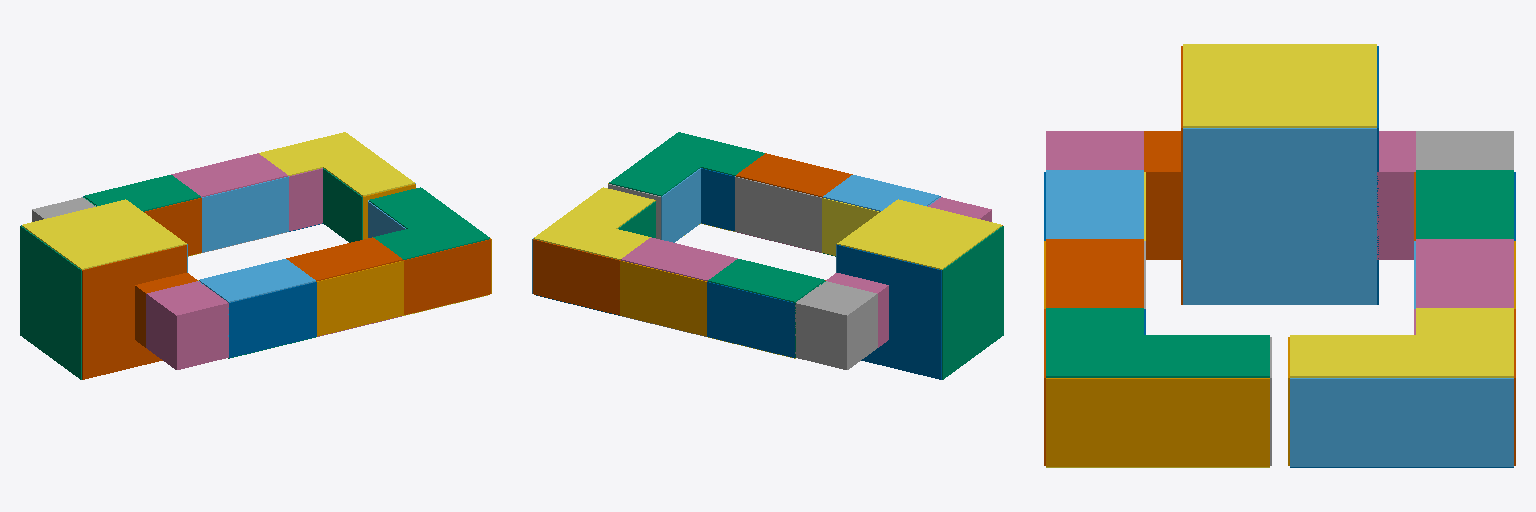
--- Render facts (derived) ---
Views: 3 orthographic renders of the robot side by side, from view 1: azimuth 30°, elevation 25°; view 2: azimuth 150°, elevation 25°; view 3: azimuth 270°, elevation 25°.
Model robot with 74 links and 73 joints (4 continuous, 69 fixed), rooted at body, posed every joint at zero.
Links seen in each view (by area): view 1: body_sensor_0_right, body_sensor_0_stop, body_sensor_0_top, joint_4, right_arm_sensor_0_right, left_arm_sensor_1_right, right_arm_sensor_1_right, right_arm_sensor_2_right, right_arm_sensor_0_top, left_arm_sensor_1_top, right_arm_sensor_1_top, right_arm_sensor_2_top (+10 smaller); view 2: body_sensor_0_left, body_sensor_0_stop, body_sensor_0_top, joint_2, left_arm_sensor_0_left, right_arm_sensor_1_left, left_arm_sensor_1_left, left_arm_sensor_2_left, left_arm_sensor_0_top, left_arm_sensor_1_top, left_arm_sensor_2_top, right_arm_sensor_1_top (+10 smaller); view 3: body_sensor_0_start, body_sensor_0_top, left_hand_sensor_0_top, right_hand_sensor_0_top, left_arm_sensor_0_start, right_arm_sensor_0_start, left_arm_sensor_2_top, right_arm_sensor_2_top, left_arm_sensor_0_top, left_arm_sensor_1_top, right_arm_sensor_0_top, right_arm_sensor_1_top (+6 smaller).
Link boxes in pixels (box(x1,y1,x2,y2)): body_sensor_0_right: box(82, 245, 186, 379); body_sensor_0_stop: box(20, 226, 81, 379); body_sensor_0_top: box(22, 199, 186, 269); joint_4: box(146, 281, 228, 369); right_arm_sensor_0_right: box(229, 282, 316, 357); left_arm_sensor_1_right: box(202, 176, 288, 252); right_arm_sensor_1_right: box(317, 261, 403, 336); right_arm_sensor_2_right: box(403, 239, 490, 314); right_arm_sensor_0_top: box(199, 259, 315, 302); left_arm_sensor_1_top: box(171, 153, 287, 197); right_arm_sensor_1_top: box(286, 237, 402, 281); right_arm_sensor_2_top: box(373, 216, 489, 259); body_sensor_0_left: box(837, 245, 941, 379); body_sensor_0_stop: box(942, 226, 1003, 379); body_sensor_0_top: box(837, 199, 1001, 269); joint_2: box(795, 281, 877, 369); left_arm_sensor_0_left: box(707, 282, 794, 357); right_arm_sensor_1_left: box(735, 176, 821, 252); left_arm_sensor_1_left: box(620, 261, 706, 336); left_arm_sensor_2_left: box(533, 239, 620, 314); left_arm_sensor_0_top: box(708, 259, 824, 302); left_arm_sensor_1_top: box(621, 237, 737, 281); left_arm_sensor_2_top: box(534, 216, 650, 259); right_arm_sensor_1_top: box(736, 153, 852, 197); body_sensor_0_start: box(1183, 128, 1376, 304); body_sensor_0_top: box(1183, 44, 1376, 127); left_hand_sensor_0_top: box(1290, 378, 1415, 466); right_hand_sensor_0_top: box(1144, 378, 1269, 466); left_arm_sensor_0_start: box(1416, 378, 1513, 466); right_arm_sensor_0_start: box(1046, 378, 1143, 466); left_arm_sensor_2_top: box(1416, 308, 1513, 377); right_arm_sensor_2_top: box(1046, 308, 1143, 377); left_arm_sensor_0_top: box(1416, 170, 1513, 238); left_arm_sensor_1_top: box(1416, 239, 1513, 307); right_arm_sensor_0_top: box(1046, 170, 1143, 238); right_arm_sensor_1_top: box(1046, 239, 1143, 307).
Size in the robot's own frame: 3.52 by 2.42 by 1.01 metres.
Geometry: primitives only (box / cylinder / sphere), no mesh files.

robot.urdf — robot:
<?xml version="1.0"?>
    <robot name="robot">


    <!-- body -->
    <link name="body">
        <inertial>
            <origin xyz="0 0 0" rpy="0 0 0"/>
            <mass value="100"/>
            <inertia ixx=".1" ixy=".1" ixz=".1" iyy=".1" iyz=".1" izz=".1"/>
        </inertial>
        <visual>
            <origin xyz="0 0 0" rpy="0 0 0"/>
            <geometry>
                <box size="1 1 1"/>
            </geometry>
        </visual>
        <collision>
            <origin xyz="0 0 0" rpy="0 0 0"/>
            <geometry>
                <box size="1 1 1"/>
            </geometry>
        </collision>
    </link>


    <!-- body_sensor_0_start -->
    <link name="body_sensor_0_start">
        <inertial>
            <origin xyz="0 0 0" rpy="0 0 0"/>
            <mass value="0"/>
            <inertia ixx=".1" ixy=".1" ixz=".1" iyy=".1" iyz=".1" izz=".1"/>
        </inertial>
        <visual>
            <origin xyz="0 0 0" rpy="0 0 0"/>
            <geometry>
                <box size="0.02 1 1"/>
            </geometry>
        </visual>
        <collision>
            <origin xyz="0 0 0" rpy="0 0 0"/>
            <geometry>
                <box size="0.02 1 1"/>
            </geometry>
        </collision>
    </link>
    <!-- Joint: body, body_sensor_0_start -->
    <joint name="body_body_sensor_0_start_joint" type="fixed">
        <parent link="body"/>
        <child link="body_sensor_0_start"/>
        <origin xyz="0.5 0 0"
                rpy="0 0 0"/>
        <axis xyz="1 0 0"/>
        
    </joint>


    <!-- body_sensor_0_stop -->
    <link name="body_sensor_0_stop">
        <inertial>
            <origin xyz="0 0 0" rpy="0 0 0"/>
            <mass value="0"/>
            <inertia ixx=".1" ixy=".1" ixz=".1" iyy=".1" iyz=".1" izz=".1"/>
        </inertial>
        <visual>
            <origin xyz="0 0 0" rpy="0 0 0"/>
            <geometry>
                <box size="0.02 1 1"/>
            </geometry>
        </visual>
        <collision>
            <origin xyz="0 0 0" rpy="0 0 0"/>
            <geometry>
                <box size="0.02 1 1"/>
            </geometry>
        </collision>
    </link>
    <!-- Joint: body, body_sensor_0_stop -->
    <joint name="body_body_sensor_0_stop_joint" type="fixed">
        <parent link="body"/>
        <child link="body_sensor_0_stop"/>
        <origin xyz="-0.5 0 0"
                rpy="0 0 0"/>
        <axis xyz="1 0 0"/>
        
    </joint>


    <!-- body_sensor_0_top -->
    <link name="body_sensor_0_top">
        <inertial>
            <origin xyz="0 0 0" rpy="0 0 0"/>
            <mass value="0"/>
            <inertia ixx=".1" ixy=".1" ixz=".1" iyy=".1" iyz=".1" izz=".1"/>
        </inertial>
        <visual>
            <origin xyz="0 0 0" rpy="0 0 0"/>
            <geometry>
                <box size="1.0 1 0.02"/>
            </geometry>
        </visual>
        <collision>
            <origin xyz="0 0 0" rpy="0 0 0"/>
            <geometry>
                <box size="1.0 1 0.02"/>
            </geometry>
        </collision>
    </link>
    <!-- Joint: body, body_sensor_0_top -->
    <joint name="body_body_sensor_0_top_joint" type="fixed">
        <parent link="body"/>
        <child link="body_sensor_0_top"/>
        <origin xyz="0 0 0.5"
                rpy="0 0 0"/>
        <axis xyz="1 0 0"/>
        
    </joint>


    <!-- body_sensor_0_left -->
    <link name="body_sensor_0_left">
        <inertial>
            <origin xyz="0 0 0" rpy="0 0 0"/>
            <mass value="0"/>
            <inertia ixx=".1" ixy=".1" ixz=".1" iyy=".1" iyz=".1" izz=".1"/>
        </inertial>
        <visual>
            <origin xyz="0 0 0" rpy="0 0 0"/>
            <geometry>
                <box size="1.0 0.02 1"/>
            </geometry>
        </visual>
        <collision>
            <origin xyz="0 0 0" rpy="0 0 0"/>
            <geometry>
                <box size="1.0 0.02 1"/>
            </geometry>
        </collision>
    </link>
    <!-- Joint: body, body_sensor_0_left -->
    <joint name="body_body_sensor_0_left_joint" type="fixed">
        <parent link="body"/>
        <child link="body_sensor_0_left"/>
        <origin xyz="0 0.5 0"
                rpy="0 0 0"/>
        <axis xyz="1 0 0"/>
        
    </joint>


    <!-- body_sensor_0_right -->
    <link name="body_sensor_0_right">
        <inertial>
            <origin xyz="0 0 0" rpy="0 0 0"/>
            <mass value="0"/>
            <inertia ixx=".1" ixy=".1" ixz=".1" iyy=".1" iyz=".1" izz=".1"/>
        </inertial>
        <visual>
            <origin xyz="0 0 0" rpy="0 0 0"/>
            <geometry>
                <box size="1.0 0.02 1"/>
            </geometry>
        </visual>
        <collision>
            <origin xyz="0 0 0" rpy="0 0 0"/>
            <geometry>
                <box size="1.0 0.02 1"/>
            </geometry>
        </collision>
    </link>
    <!-- Joint: body, body_sensor_0_right -->
    <joint name="body_body_sensor_0_right_joint" type="fixed">
        <parent link="body"/>
        <child link="body_sensor_0_right"/>
        <origin xyz="0 -0.5 0"
                rpy="0 0 0"/>
        <axis xyz="1 0 0"/>
        
    </joint>


    <!-- joint_1 -->
    <link name="joint_1">
        <inertial>
            <origin xyz="0 0 0" rpy="0 0 0"/>
            <mass value="0.1"/>
            <inertia ixx=".1" ixy=".1" ixz=".1" iyy=".1" iyz=".1" izz=".1"/>
        </inertial>
        <visual>
            <origin xyz="0 0 0" rpy="0 0 0"/>
            <geometry>
                <box size="0.5 0.2 0.5"/>
            </geometry>
        </visual>
        <collision>
            <origin xyz="0 0 0" rpy="0 0 0"/>
            <geometry>
                <box size="0.5 0.2 0.5"/>
            </geometry>
        </collision>
    </link>
    <!-- Joint: body, joint_1 -->
    <joint name="body_joint_1_joint" type="continuous">
        <parent link="body"/>
        <child link="joint_1"/>
        <origin xyz="0.25 0.6 0"
                rpy="0 0 0"/>
        <axis xyz="0 -1 0"/>
        <limit lower="0" upper="0" effort="0" velocity="0"/>
    </joint>


    <!-- joint_2 -->
    <link name="joint_2">
        <inertial>
            <origin xyz="0 0 0" rpy="0 0 0"/>
            <mass value="0.1"/>
            <inertia ixx=".1" ixy=".1" ixz=".1" iyy=".1" iyz=".1" izz=".1"/>
        </inertial>
        <visual>
            <origin xyz="0 0 0" rpy="0 0 0"/>
            <geometry>
                <box size="0.5 0.5 0.5"/>
            </geometry>
        </visual>
        <collision>
            <origin xyz="0 0 0" rpy="0 0 0"/>
            <geometry>
                <box size="0.5 0.5 0.5"/>
            </geometry>
        </collision>
    </link>
    <!-- Joint: joint_1, joint_2 -->
    <joint name="joint_1_joint_2_joint" type="continuous">
        <parent link="joint_1"/>
        <child link="joint_2"/>
        <origin xyz="0 0.35 0"
                rpy="0 0 0"/>
        <axis xyz="0 0 1"/>
        <limit lower="0" upper="0" effort="0" velocity="0"/>
    </joint>


    <!-- left_arm -->
    <link name="left_arm">
        <inertial>
            <origin xyz="0 0 0" rpy="0 0 0"/>
            <mass value="0.1"/>
            <inertia ixx=".1" ixy=".1" ixz=".1" iyy=".1" iyz=".1" izz=".1"/>
        </inertial>
        <visual>
            <origin xyz="0 0 0" rpy="0 0 0"/>
            <geometry>
                <box size="2.5 0.5 0.5"/>
            </geometry>
        </visual>
        <collision>
            <origin xyz="0 0 0" rpy="0 0 0"/>
            <geometry>
                <box size="2.5 0.5 0.5"/>
            </geometry>
        </collision>
    </link>


    <!-- left_arm_sensor_0_start -->
    <link name="left_arm_sensor_0_start">
        <inertial>
            <origin xyz="0 0 0" rpy="0 0 0"/>
            <mass value="0"/>
            <inertia ixx=".1" ixy=".1" ixz=".1" iyy=".1" iyz=".1" izz=".1"/>
        </inertial>
        <visual>
            <origin xyz="0 0 0" rpy="0 0 0"/>
            <geometry>
                <box size="0.02 0.5 0.5"/>
            </geometry>
        </visual>
        <collision>
            <origin xyz="0 0 0" rpy="0 0 0"/>
            <geometry>
                <box size="0.02 0.5 0.5"/>
            </geometry>
        </collision>
    </link>
    <!-- Joint: left_arm, left_arm_sensor_0_start -->
    <joint name="left_arm_left_arm_sensor_0_start_joint" type="fixed">
        <parent link="left_arm"/>
        <child link="left_arm_sensor_0_start"/>
        <origin xyz="1.25 0 0"
                rpy="0 0 0"/>
        <axis xyz="1 0 0"/>
        
    </joint>


    <!-- left_arm_sensor_0_top -->
    <link name="left_arm_sensor_0_top">
        <inertial>
            <origin xyz="0 0 0" rpy="0 0 0"/>
            <mass value="0"/>
            <inertia ixx=".1" ixy=".1" ixz=".1" iyy=".1" iyz=".1" izz=".1"/>
        </inertial>
        <visual>
            <origin xyz="0 0 0" rpy="0 0 0"/>
            <geometry>
                <box size="0.8333333333333334 0.5 0.02"/>
            </geometry>
        </visual>
        <collision>
            <origin xyz="0 0 0" rpy="0 0 0"/>
            <geometry>
                <box size="0.8333333333333334 0.5 0.02"/>
            </geometry>
        </collision>
    </link>
    <!-- Joint: left_arm, left_arm_sensor_0_top -->
    <joint name="left_arm_left_arm_sensor_0_top_joint" type="fixed">
        <parent link="left_arm"/>
        <child link="left_arm_sensor_0_top"/>
        <origin xyz="-0.8333333333333333 0 0.25"
                rpy="0 0 0"/>
        <axis xyz="1 0 0"/>
        
    </joint>


    <!-- left_arm_sensor_0_bottom -->
    <link name="left_arm_sensor_0_bottom">
        <inertial>
            <origin xyz="0 0 0" rpy="0 0 0"/>
            <mass value="0"/>
            <inertia ixx=".1" ixy=".1" ixz=".1" iyy=".1" iyz=".1" izz=".1"/>
        </inertial>
        <visual>
            <origin xyz="0 0 0" rpy="0 0 0"/>
            <geometry>
                <box size="0.8333333333333334 0.5 0.02"/>
            </geometry>
        </visual>
        <collision>
            <origin xyz="0 0 0" rpy="0 0 0"/>
            <geometry>
                <box size="0.8333333333333334 0.5 0.02"/>
            </geometry>
        </collision>
    </link>
    <!-- Joint: left_arm, left_arm_sensor_0_bottom -->
    <joint name="left_arm_left_arm_sensor_0_bottom_joint" type="fixed">
        <parent link="left_arm"/>
        <child link="left_arm_sensor_0_bottom"/>
        <origin xyz="-0.8333333333333333 0 -0.25"
                rpy="0 0 0"/>
        <axis xyz="1 0 0"/>
        
    </joint>


    <!-- left_arm_sensor_0_left -->
    <link name="left_arm_sensor_0_left">
        <inertial>
            <origin xyz="0 0 0" rpy="0 0 0"/>
            <mass value="0"/>
            <inertia ixx=".1" ixy=".1" ixz=".1" iyy=".1" iyz=".1" izz=".1"/>
        </inertial>
        <visual>
            <origin xyz="0 0 0" rpy="0 0 0"/>
            <geometry>
                <box size="0.8333333333333334 0.02 0.5"/>
            </geometry>
        </visual>
        <collision>
            <origin xyz="0 0 0" rpy="0 0 0"/>
            <geometry>
                <box size="0.8333333333333334 0.02 0.5"/>
            </geometry>
        </collision>
    </link>
    <!-- Joint: left_arm, left_arm_sensor_0_left -->
    <joint name="left_arm_left_arm_sensor_0_left_joint" type="fixed">
        <parent link="left_arm"/>
        <child link="left_arm_sensor_0_left"/>
        <origin xyz="-0.8333333333333333 0.25 0"
                rpy="0 0 0"/>
        <axis xyz="1 0 0"/>
        
    </joint>


    <!-- left_arm_sensor_0_right -->
    <link name="left_arm_sensor_0_right">
        <inertial>
            <origin xyz="0 0 0" rpy="0 0 0"/>
            <mass value="0"/>
            <inertia ixx=".1" ixy=".1" ixz=".1" iyy=".1" iyz=".1" izz=".1"/>
        </inertial>
        <visual>
            <origin xyz="0 0 0" rpy="0 0 0"/>
            <geometry>
                <box size="0.8333333333333334 0.02 0.5"/>
            </geometry>
        </visual>
        <collision>
            <origin xyz="0 0 0" rpy="0 0 0"/>
            <geometry>
                <box size="0.8333333333333334 0.02 0.5"/>
            </geometry>
        </collision>
    </link>
    <!-- Joint: left_arm, left_arm_sensor_0_right -->
    <joint name="left_arm_left_arm_sensor_0_right_joint" type="fixed">
        <parent link="left_arm"/>
        <child link="left_arm_sensor_0_right"/>
        <origin xyz="-0.8333333333333333 -0.25 0"
                rpy="0 0 0"/>
        <axis xyz="1 0 0"/>
        
    </joint>


    <!-- left_arm_sensor_1_top -->
    <link name="left_arm_sensor_1_top">
        <inertial>
            <origin xyz="0 0 0" rpy="0 0 0"/>
            <mass value="0"/>
            <inertia ixx=".1" ixy=".1" ixz=".1" iyy=".1" iyz=".1" izz=".1"/>
        </inertial>
        <visual>
            <origin xyz="0 0 0" rpy="0 0 0"/>
            <geometry>
                <box size="0.8333333333333334 0.5 0.02"/>
            </geometry>
        </visual>
        <collision>
            <origin xyz="0 0 0" rpy="0 0 0"/>
            <geometry>
                <box size="0.8333333333333334 0.5 0.02"/>
            </geometry>
        </collision>
    </link>
    <!-- Joint: left_arm, left_arm_sensor_1_top -->
    <joint name="left_arm_left_arm_sensor_1_top_joint" type="fixed">
        <parent link="left_arm"/>
        <child link="left_arm_sensor_1_top"/>
        <origin xyz="1.1102230246251565e-16 0 0.25"
                rpy="0 0 0"/>
        <axis xyz="1 0 0"/>
        
    </joint>


    <!-- left_arm_sensor_1_bottom -->
    <link name="left_arm_sensor_1_bottom">
        <inertial>
            <origin xyz="0 0 0" rpy="0 0 0"/>
            <mass value="0"/>
            <inertia ixx=".1" ixy=".1" ixz=".1" iyy=".1" iyz=".1" izz=".1"/>
        </inertial>
        <visual>
            <origin xyz="0 0 0" rpy="0 0 0"/>
            <geometry>
                <box size="0.8333333333333334 0.5 0.02"/>
            </geometry>
        </visual>
        <collision>
            <origin xyz="0 0 0" rpy="0 0 0"/>
            <geometry>
                <box size="0.8333333333333334 0.5 0.02"/>
            </geometry>
        </collision>
    </link>
    <!-- Joint: left_arm, left_arm_sensor_1_bottom -->
    <joint name="left_arm_left_arm_sensor_1_bottom_joint" type="fixed">
        <parent link="left_arm"/>
        <child link="left_arm_sensor_1_bottom"/>
        <origin xyz="1.1102230246251565e-16 0 -0.25"
                rpy="0 0 0"/>
        <axis xyz="1 0 0"/>
        
    </joint>


    <!-- left_arm_sensor_1_left -->
    <link name="left_arm_sensor_1_left">
        <inertial>
            <origin xyz="0 0 0" rpy="0 0 0"/>
            <mass value="0"/>
            <inertia ixx=".1" ixy=".1" ixz=".1" iyy=".1" iyz=".1" izz=".1"/>
        </inertial>
        <visual>
            <origin xyz="0 0 0" rpy="0 0 0"/>
            <geometry>
                <box size="0.8333333333333334 0.02 0.5"/>
            </geometry>
        </visual>
        <collision>
            <origin xyz="0 0 0" rpy="0 0 0"/>
            <geometry>
                <box size="0.8333333333333334 0.02 0.5"/>
            </geometry>
        </collision>
    </link>
    <!-- Joint: left_arm, left_arm_sensor_1_left -->
    <joint name="left_arm_left_arm_sensor_1_left_joint" type="fixed">
        <parent link="left_arm"/>
        <child link="left_arm_sensor_1_left"/>
        <origin xyz="1.1102230246251565e-16 0.25 0"
                rpy="0 0 0"/>
        <axis xyz="1 0 0"/>
        
    </joint>


    <!-- left_arm_sensor_1_right -->
    <link name="left_arm_sensor_1_right">
        <inertial>
            <origin xyz="0 0 0" rpy="0 0 0"/>
            <mass value="0"/>
            <inertia ixx=".1" ixy=".1" ixz=".1" iyy=".1" iyz=".1" izz=".1"/>
        </inertial>
        <visual>
            <origin xyz="0 0 0" rpy="0 0 0"/>
            <geometry>
                <box size="0.8333333333333334 0.02 0.5"/>
            </geometry>
        </visual>
        <collision>
            <origin xyz="0 0 0" rpy="0 0 0"/>
            <geometry>
                <box size="0.8333333333333334 0.02 0.5"/>
            </geometry>
        </collision>
    </link>
    <!-- Joint: left_arm, left_arm_sensor_1_right -->
    <joint name="left_arm_left_arm_sensor_1_right_joint" type="fixed">
        <parent link="left_arm"/>
        <child link="left_arm_sensor_1_right"/>
        <origin xyz="1.1102230246251565e-16 -0.25 0"
                rpy="0 0 0"/>
        <axis xyz="1 0 0"/>
        
    </joint>


    <!-- left_arm_sensor_2_stop -->
    <link name="left_arm_sensor_2_stop">
        <inertial>
            <origin xyz="0 0 0" rpy="0 0 0"/>
            <mass value="0"/>
            <inertia ixx=".1" ixy=".1" ixz=".1" iyy=".1" iyz=".1" izz=".1"/>
        </inertial>
        <visual>
            <origin xyz="0 0 0" rpy="0 0 0"/>
            <geometry>
                <box size="0.02 0.5 0.5"/>
            </geometry>
        </visual>
        <collision>
            <origin xyz="0 0 0" rpy="0 0 0"/>
            <geometry>
                <box size="0.02 0.5 0.5"/>
            </geometry>
        </collision>
    </link>
    <!-- Joint: left_arm, left_arm_sensor_2_stop -->
    <joint name="left_arm_left_arm_sensor_2_stop_joint" type="fixed">
        <parent link="left_arm"/>
        <child link="left_arm_sensor_2_stop"/>
        <origin xyz="-1.25 0 0"
                rpy="0 0 0"/>
        <axis xyz="1 0 0"/>
        
    </joint>


    <!-- left_arm_sensor_2_top -->
    <link name="left_arm_sensor_2_top">
        <inertial>
            <origin xyz="0 0 0" rpy="0 0 0"/>
            <mass value="0"/>
            <inertia ixx=".1" ixy=".1" ixz=".1" iyy=".1" iyz=".1" izz=".1"/>
        </inertial>
        <visual>
            <origin xyz="0 0 0" rpy="0 0 0"/>
            <geometry>
                <box size="0.8333333333333334 0.5 0.02"/>
            </geometry>
        </visual>
        <collision>
            <origin xyz="0 0 0" rpy="0 0 0"/>
            <geometry>
                <box size="0.8333333333333334 0.5 0.02"/>
            </geometry>
        </collision>
    </link>
    <!-- Joint: left_arm, left_arm_sensor_2_top -->
    <joint name="left_arm_left_arm_sensor_2_top_joint" type="fixed">
        <parent link="left_arm"/>
        <child link="left_arm_sensor_2_top"/>
        <origin xyz="0.8333333333333335 0 0.25"
                rpy="0 0 0"/>
        <axis xyz="1 0 0"/>
        
    </joint>


    <!-- left_arm_sensor_2_bottom -->
    <link name="left_arm_sensor_2_bottom">
        <inertial>
            <origin xyz="0 0 0" rpy="0 0 0"/>
            <mass value="0"/>
            <inertia ixx=".1" ixy=".1" ixz=".1" iyy=".1" iyz=".1" izz=".1"/>
        </inertial>
        <visual>
            <origin xyz="0 0 0" rpy="0 0 0"/>
            <geometry>
                <box size="0.8333333333333334 0.5 0.02"/>
            </geometry>
        </visual>
        <collision>
            <origin xyz="0 0 0" rpy="0 0 0"/>
            <geometry>
                <box size="0.8333333333333334 0.5 0.02"/>
            </geometry>
        </collision>
    </link>
    <!-- Joint: left_arm, left_arm_sensor_2_bottom -->
    <joint name="left_arm_left_arm_sensor_2_bottom_joint" type="fixed">
        <parent link="left_arm"/>
        <child link="left_arm_sensor_2_bottom"/>
        <origin xyz="0.8333333333333335 0 -0.25"
                rpy="0 0 0"/>
        <axis xyz="1 0 0"/>
        
    </joint>


    <!-- left_arm_sensor_2_left -->
    <link name="left_arm_sensor_2_left">
        <inertial>
            <origin xyz="0 0 0" rpy="0 0 0"/>
            <mass value="0"/>
            <inertia ixx=".1" ixy=".1" ixz=".1" iyy=".1" iyz=".1" izz=".1"/>
        </inertial>
        <visual>
            <origin xyz="0 0 0" rpy="0 0 0"/>
            <geometry>
                <box size="0.8333333333333334 0.02 0.5"/>
            </geometry>
        </visual>
        <collision>
            <origin xyz="0 0 0" rpy="0 0 0"/>
            <geometry>
                <box size="0.8333333333333334 0.02 0.5"/>
            </geometry>
        </collision>
    </link>
    <!-- Joint: left_arm, left_arm_sensor_2_left -->
    <joint name="left_arm_left_arm_sensor_2_left_joint" type="fixed">
        <parent link="left_arm"/>
        <child link="left_arm_sensor_2_left"/>
        <origin xyz="0.8333333333333335 0.25 0"
                rpy="0 0 0"/>
        <axis xyz="1 0 0"/>
        
    </joint>


    <!-- left_arm_sensor_2_right -->
    <link name="left_arm_sensor_2_right">
        <inertial>
            <origin xyz="0 0 0" rpy="0 0 0"/>
            <mass value="0"/>
            <inertia ixx=".1" ixy=".1" ixz=".1" iyy=".1" iyz=".1" izz=".1"/>
        </inertial>
        <visual>
            <origin xyz="0 0 0" rpy="0 0 0"/>
            <geometry>
                <box size="0.8333333333333334 0.02 0.5"/>
            </geometry>
        </visual>
        <collision>
            <origin xyz="0 0 0" rpy="0 0 0"/>
            <geometry>
                <box size="0.8333333333333334 0.02 0.5"/>
            </geometry>
        </collision>
    </link>
    <!-- Joint: left_arm, left_arm_sensor_2_right -->
    <joint name="left_arm_left_arm_sensor_2_right_joint" type="fixed">
        <parent link="left_arm"/>
        <child link="left_arm_sensor_2_right"/>
        <origin xyz="0.8333333333333335 -0.25 0"
                rpy="0 0 0"/>
        <axis xyz="1 0 0"/>
        
    </joint>
    <!-- Joint: joint_2, left_arm -->
    <joint name="joint_2_left_arm_joint" type="fixed">
        <parent link="joint_2"/>
        <child link="left_arm"/>
        <origin xyz="1.5 0 0"
                rpy="0 0 0"/>
        <axis xyz="1 0 0"/>
        
    </joint>


    <!-- left_hand -->
    <link name="left_hand">
        <inertial>
            <origin xyz="0 0 0" rpy="0 0 0"/>
            <mass value="0.1"/>
            <inertia ixx=".1" ixy=".1" ixz=".1" iyy=".1" iyz=".1" izz=".1"/>
        </inertial>
        <visual>
            <origin xyz="0 0 0" rpy="0 0 0"/>
            <geometry>
                <box size="0.5 0.65 0.5"/>
            </geometry>
        </visual>
        <collision>
            <origin xyz="0 0 0" rpy="0 0 0"/>
            <geometry>
                <box size="0.5 0.65 0.5"/>
            </geometry>
        </collision>
    </link>


    <!-- left_hand_sensor_0_stop -->
    <link name="left_hand_sensor_0_stop">
        <inertial>
            <origin xyz="0 0 0" rpy="0 0 0"/>
            <mass value="0"/>
            <inertia ixx=".1" ixy=".1" ixz=".1" iyy=".1" iyz=".1" izz=".1"/>
        </inertial>
        <visual>
            <origin xyz="0 0 0" rpy="0 0 0"/>
            <geometry>
                <box size="0.5 0.02 0.5"/>
            </geometry>
        </visual>
        <collision>
            <origin xyz="0 0 0" rpy="0 0 0"/>
            <geometry>
                <box size="0.5 0.02 0.5"/>
            </geometry>
        </collision>
    </link>
    <!-- Joint: left_hand, left_hand_sensor_0_stop -->
    <joint name="left_hand_left_hand_sensor_0_stop_joint" type="fixed">
        <parent link="left_hand"/>
        <child link="left_hand_sensor_0_stop"/>
        <origin xyz="0 -0.325 0"
                rpy="0 0 0"/>
        <axis xyz="0 0 1"/>
        
    </joint>


    <!-- left_hand_sensor_0_top -->
    <link name="left_hand_sensor_0_top">
        <inertial>
            <origin xyz="0 0 0" rpy="0 0 0"/>
            <mass value="0"/>
            <inertia ixx=".1" ixy=".1" ixz=".1" iyy=".1" iyz=".1" izz=".1"/>
        </inertial>
        <visual>
            <origin xyz="0 0 0" rpy="0 0 0"/>
            <geometry>
                <box size="0.02 0.65 0.5"/>
            </geometry>
        </visual>
        <collision>
            <origin xyz="0 0 0" rpy="0 0 0"/>
            <geometry>
                <box size="0.02 0.65 0.5"/>
            </geometry>
        </collision>
    </link>
    <!-- Joint: left_hand, left_hand_sensor_0_top -->
    <joint name="left_hand_left_hand_sensor_0_top_joint" type="fixed">
        <parent link="left_hand"/>
        <child link="left_hand_sensor_0_top"/>
        <origin xyz="0.25 0 0"
                rpy="0 0 0"/>
        <axis xyz="0 0 1"/>
        
    </joint>


    <!-- left_hand_sensor_0_bottom -->
    <link name="left_hand_sensor_0_bottom">
        <inertial>
            <origin xyz="0 0 0" rpy="0 0 0"/>
            <mass value="0"/>
            <inertia ixx=".1" ixy=".1" ixz=".1" iyy=".1" iyz=".1" izz=".1"/>
        </inertial>
        <visual>
            <origin xyz="0 0 0" rpy="0 0 0"/>
            <geometry>
                <box size="0.02 0.65 0.5"/>
            </geometry>
        </visual>
        <collision>
            <origin xyz="0 0 0" rpy="0 0 0"/>
            <geometry>
                <box size="0.02 0.65 0.5"/>
            </geometry>
        </collision>
    </link>
    <!-- Joint: left_hand, left_hand_sensor_0_bottom -->
    <joint name="left_hand_left_hand_sensor_0_bottom_joint" type="fixed">
        <parent link="left_hand"/>
        <child link="left_hand_sensor_0_bottom"/>
        <origin xyz="-0.25 0 0"
                rpy="0 0 0"/>
        <axis xyz="0 0 1"/>
        
    </joint>


    <!-- left_hand_sensor_0_left -->
    <link name="left_hand_sensor_0_left">
        <inertial>
            <origin xyz="0 0 0" rpy="0 0 0"/>
            <mass value="0"/>
            <inertia ixx=".1" ixy=".1" ixz=".1" iyy=".1" iyz=".1" izz=".1"/>
        </inertial>
        <visual>
            <origin xyz="0 0 0" rpy="0 0 0"/>
            <geometry>
                <box size="0.5 0.65 0.02"/>
            </geometry>
        </visual>
        <collision>
            <origin xyz="0 0 0" rpy="0 0 0"/>
            <geometry>
                <box size="0.5 0.65 0.02"/>
            </geometry>
        </collision>
    </link>
    <!-- Joint: left_hand, left_hand_sensor_0_left -->
    <joint name="left_hand_left_hand_sensor_0_left_joint" type="fixed">
        <parent link="left_hand"/>
        <child link="left_hand_sensor_0_left"/>
        <origin xyz="0 0 0.25"
                rpy="0 0 0"/>
        <axis xyz="0 0 1"/>
        
    </joint>


    <!-- left_hand_sensor_0_right -->
    <link name="left_hand_sensor_0_right">
        <inertial>
            <origin xyz="0 0 0" rpy="0 0 0"/>
            <mass value="0"/>
            <inertia ixx=".1" ixy=".1" ixz=".1" iyy=".1" iyz=".1" izz=".1"/>
        </inertial>
        <visual>
            <origin xyz="0 0 0" rpy="0 0 0"/>
            <geometry>
                <box size="0.5 0.65 0.02"/>
            </geometry>
        </visual>
        <collision>
            <origin xyz="0 0 0" rpy="0 0 0"/>
            <geometry>
                <box size="0.5 0.65 0.02"/>
            </geometry>
        </collision>
    </link>
    <!-- Joint: left_hand, left_hand_sensor_0_right -->
    <joint name="left_hand_left_hand_sensor_0_right_joint" type="fixed">
        <parent link="left_hand"/>
        <child link="left_hand_sensor_0_right"/>
        <origin xyz="0 0 -0.25"
                rpy="0 0 0"/>
        <axis xyz="0 0 1"/>
        
    </joint>
    <!-- Joint: left_arm, left_hand -->
    <joint name="left_arm_left_hand_joint" type="fixed">
        <parent link="left_arm"/>
        <child link="left_hand"/>
        <origin xyz="1.0 -0.575 0"
                rpy="0 0 0"/>
        <axis xyz="0 0 1"/>
        
    </joint>


    <!-- joint_3 -->
    <link name="joint_3">
        <inertial>
            <origin xyz="0 0 0" rpy="0 0 0"/>
            <mass value="0.1"/>
            <inertia ixx=".1" ixy=".1" ixz=".1" iyy=".1" iyz=".1" izz=".1"/>
        </inertial>
        <visual>
            <origin xyz="0 0 0" rpy="0 0 0"/>
            <geometry>
                <box size="0.5 0.2 0.5"/>
            </geometry>
        </visual>
        <collision>
            <origin xyz="0 0 0" rpy="0 0 0"/>
            <geometry>
                <box size="0.5 0.2 0.5"/>
            </geometry>
        </collision>
    </link>
    <!-- Joint: body, joint_3 -->
    <joint name="body_joint_3_joint" type="continuous">
        <parent link="body"/>
        <child link="joint_3"/>
        <origin xyz="0.25 -0.6 0"
                rpy="0 0 0"/>
        <axis xyz="0 -1 0"/>
        <limit lower="0" upper="0" effort="0" velocity="0"/>
    </joint>


    <!-- joint_4 -->
    <link name="joint_4">
        <inertial>
            <origin xyz="0 0 0" rpy="0 0 0"/>
            <mass value="0.1"/>
            <inertia ixx=".1" ixy=".1" ixz=".1" iyy=".1" iyz=".1" izz=".1"/>
        </inertial>
        <visual>
            <origin xyz="0 0 0" rpy="0 0 0"/>
            <geometry>
                <box size="0.5 0.5 0.5"/>
            </geometry>
        </visual>
        <collision>
            <origin xyz="0 0 0" rpy="0 0 0"/>
            <geometry>
                <box size="0.5 0.5 0.5"/>
            </geometry>
        </collision>
    </link>
    <!-- Joint: joint_3, joint_4 -->
    <joint name="joint_3_joint_4_joint" type="continuous">
        <parent link="joint_3"/>
        <child link="joint_4"/>
        <origin xyz="0 -0.35 0"
                rpy="0 0 0"/>
        <axis xyz="0 0 1"/>
        <limit lower="0" upper="0" effort="0" velocity="0"/>
    </joint>


    <!-- right_arm -->
    <link name="right_arm">
        <inertial>
            <origin xyz="0 0 0" rpy="0 0 0"/>
            <mass value="0.1"/>
            <inertia ixx=".1" ixy=".1" ixz=".1" iyy=".1" iyz=".1" izz=".1"/>
        </inertial>
        <visual>
            <origin xyz="0 0 0" rpy="0 0 0"/>
            <geometry>
                <box size="2.5 0.5 0.5"/>
            </geometry>
        </visual>
        <collision>
            <origin xyz="0 0 0" rpy="0 0 0"/>
            <geometry>
                <box size="2.5 0.5 0.5"/>
            </geometry>
        </collision>
    </link>


    <!-- right_arm_sensor_0_start -->
    <link name="right_arm_sensor_0_start">
        <inertial>
            <origin xyz="0 0 0" rpy="0 0 0"/>
            <mass value="0"/>
            <inertia ixx=".1" ixy=".1" ixz=".1" iyy=".1" iyz=".1" izz=".1"/>
        </inertial>
        <visual>
            <origin xyz="0 0 0" rpy="0 0 0"/>
            <geometry>
                <box size="0.02 0.5 0.5"/>
            </geometry>
        </visual>
        <collision>
            <origin xyz="0 0 0" rpy="0 0 0"/>
            <geometry>
                <box size="0.02 0.5 0.5"/>
            </geometry>
        </collision>
    </link>
    <!-- Joint: right_arm, right_arm_sensor_0_start -->
    <joint name="right_arm_right_arm_sensor_0_start_joint" type="fixed">
        <parent link="right_arm"/>
        <child link="right_arm_sensor_0_start"/>
        <origin xyz="1.25 0 0"
                rpy="0 0 0"/>
        <axis xyz="1 0 0"/>
        
    </joint>


    <!-- right_arm_sensor_0_top -->
    <link name="right_arm_sensor_0_top">
        <inertial>
            <origin xyz="0 0 0" rpy="0 0 0"/>
            <mass value="0"/>
            <inertia ixx=".1" ixy=".1" ixz=".1" iyy=".1" iyz=".1" izz=".1"/>
        </inertial>
        <visual>
            <origin xyz="0 0 0" rpy="0 0 0"/>
            <geometry>
                <box size="0.8333333333333334 0.5 0.02"/>
            </geometry>
        </visual>
        <collision>
            <origin xyz="0 0 0" rpy="0 0 0"/>
            <geometry>
                <box size="0.8333333333333334 0.5 0.02"/>
            </geometry>
        </collision>
    </link>
    <!-- Joint: right_arm, right_arm_sensor_0_top -->
    <joint name="right_arm_right_arm_sensor_0_top_joint" type="fixed">
        <parent link="right_arm"/>
        <child link="right_arm_sensor_0_top"/>
        <origin xyz="-0.8333333333333333 0 0.25"
                rpy="0 0 0"/>
        <axis xyz="1 0 0"/>
        
    </joint>


    <!-- right_arm_sensor_0_bottom -->
    <link name="right_arm_sensor_0_bottom">
        <inertial>
            <origin xyz="0 0 0" rpy="0 0 0"/>
            <mass value="0"/>
            <inertia ixx=".1" ixy=".1" ixz=".1" iyy=".1" iyz=".1" izz=".1"/>
        </inertial>
        <visual>
            <origin xyz="0 0 0" rpy="0 0 0"/>
            <geometry>
                <box size="0.8333333333333334 0.5 0.02"/>
            </geometry>
        </visual>
        <collision>
            <origin xyz="0 0 0" rpy="0 0 0"/>
            <geometry>
                <box size="0.8333333333333334 0.5 0.02"/>
            </geometry>
        </collision>
    </link>
    <!-- Joint: right_arm, right_arm_sensor_0_bottom -->
    <joint name="right_arm_right_arm_sensor_0_bottom_joint" type="fixed">
        <parent link="right_arm"/>
        <child link="right_arm_sensor_0_bottom"/>
        <origin xyz="-0.8333333333333333 0 -0.25"
                rpy="0 0 0"/>
        <axis xyz="1 0 0"/>
        
    </joint>


    <!-- right_arm_sensor_0_left -->
    <link name="right_arm_sensor_0_left">
        <inertial>
            <origin xyz="0 0 0" rpy="0 0 0"/>
            <mass value="0"/>
            <inertia ixx=".1" ixy=".1" ixz=".1" iyy=".1" iyz=".1" izz=".1"/>
        </inertial>
        <visual>
            <origin xyz="0 0 0" rpy="0 0 0"/>
            <geometry>
                <box size="0.8333333333333334 0.02 0.5"/>
            </geometry>
        </visual>
        <collision>
            <origin xyz="0 0 0" rpy="0 0 0"/>
            <geometry>
                <box size="0.8333333333333334 0.02 0.5"/>
            </geometry>
        </collision>
    </link>
    <!-- Joint: right_arm, right_arm_sensor_0_left -->
    <joint name="right_arm_right_arm_sensor_0_left_joint" type="fixed">
        <parent link="right_arm"/>
        <child link="right_arm_sensor_0_left"/>
        <origin xyz="-0.8333333333333333 0.25 0"
                rpy="0 0 0"/>
        <axis xyz="1 0 0"/>
        
    </joint>


    <!-- right_arm_sensor_0_right -->
    <link name="right_arm_sensor_0_right">
        <inertial>
            <origin xyz="0 0 0" rpy="0 0 0"/>
            <mass value="0"/>
            <inertia ixx=".1" ixy=".1" ixz=".1" iyy=".1" iyz=".1" izz=".1"/>
        </inertial>
        <visual>
            <origin xyz="0 0 0" rpy="0 0 0"/>
            <geometry>
                <box size="0.8333333333333334 0.02 0.5"/>
            </geometry>
        </visual>
        <collision>
            <origin xyz="0 0 0" rpy="0 0 0"/>
            <geometry>
                <box size="0.8333333333333334 0.02 0.5"/>
            </geometry>
        </collision>
    </link>
    <!-- Joint: right_arm, right_arm_sensor_0_right -->
    <joint name="right_arm_right_arm_sensor_0_right_joint" type="fixed">
        <parent link="right_arm"/>
        <child link="right_arm_sensor_0_right"/>
        <origin xyz="-0.8333333333333333 -0.25 0"
                rpy="0 0 0"/>
        <axis xyz="1 0 0"/>
        
    </joint>


    <!-- right_arm_sensor_1_top -->
    <link name="right_arm_sensor_1_top">
        <inertial>
            <origin xyz="0 0 0" rpy="0 0 0"/>
            <mass value="0"/>
            <inertia ixx=".1" ixy=".1" ixz=".1" iyy=".1" iyz=".1" izz=".1"/>
        </inertial>
        <visual>
            <origin xyz="0 0 0" rpy="0 0 0"/>
            <geometry>
                <box size="0.8333333333333334 0.5 0.02"/>
            </geometry>
        </visual>
        <collision>
            <origin xyz="0 0 0" rpy="0 0 0"/>
            <geometry>
                <box size="0.8333333333333334 0.5 0.02"/>
            </geometry>
        </collision>
    </link>
    <!-- Joint: right_arm, right_arm_sensor_1_top -->
    <joint name="right_arm_right_arm_sensor_1_top_joint" type="fixed">
        <parent link="right_arm"/>
        <child link="right_arm_sensor_1_top"/>
        <origin xyz="1.1102230246251565e-16 0 0.25"
                rpy="0 0 0"/>
        <axis xyz="1 0 0"/>
        
    </joint>


    <!-- right_arm_sensor_1_bottom -->
    <link name="right_arm_sensor_1_bottom">
        <inertial>
            <origin xyz="0 0 0" rpy="0 0 0"/>
            <mass value="0"/>
            <inertia ixx=".1" ixy=".1" ixz=".1" iyy=".1" iyz=".1" izz=".1"/>
        </inertial>
        <visual>
            <origin xyz="0 0 0" rpy="0 0 0"/>
            <geometry>
                <box size="0.8333333333333334 0.5 0.02"/>
            </geometry>
        </visual>
        <collision>
            <origin xyz="0 0 0" rpy="0 0 0"/>
            <geometry>
                <box size="0.8333333333333334 0.5 0.02"/>
            </geometry>
        </collision>
    </link>
    <!-- Joint: right_arm, right_arm_sensor_1_bottom -->
    <joint name="right_arm_right_arm_sensor_1_bottom_joint" type="fixed">
        <parent link="right_arm"/>
        <child link="right_arm_sensor_1_bottom"/>
        <origin xyz="1.1102230246251565e-16 0 -0.25"
                rpy="0 0 0"/>
        <axis xyz="1 0 0"/>
        
    </joint>


    <!-- right_arm_sensor_1_left -->
    <link name="right_arm_sensor_1_left">
        <inertial>
            <origin xyz="0 0 0" rpy="0 0 0"/>
            <mass value="0"/>
            <inertia ixx=".1" ixy=".1" ixz=".1" iyy=".1" iyz=".1" izz=".1"/>
        </inertial>
        <visual>
            <origin xyz="0 0 0" rpy="0 0 0"/>
            <geometry>
                <box size="0.8333333333333334 0.02 0.5"/>
            </geometry>
        </visual>
        <collision>
            <origin xyz="0 0 0" rpy="0 0 0"/>
            <geometry>
                <box size="0.8333333333333334 0.02 0.5"/>
            </geometry>
        </collision>
    </link>
    <!-- Joint: right_arm, right_arm_sensor_1_left -->
    <joint name="right_arm_right_arm_sensor_1_left_joint" type="fixed">
        <parent link="right_arm"/>
        <child link="right_arm_sensor_1_left"/>
        <origin xyz="1.1102230246251565e-16 0.25 0"
                rpy="0 0 0"/>
        <axis xyz="1 0 0"/>
        
    </joint>


    <!-- right_arm_sensor_1_right -->
    <link name="right_arm_sensor_1_right">
        <inertial>
            <origin xyz="0 0 0" rpy="0 0 0"/>
            <mass value="0"/>
            <inertia ixx=".1" ixy=".1" ixz=".1" iyy=".1" iyz=".1" izz=".1"/>
        </inertial>
        <visual>
            <origin xyz="0 0 0" rpy="0 0 0"/>
            <geometry>
                <box size="0.8333333333333334 0.02 0.5"/>
            </geometry>
        </visual>
        <collision>
            <origin xyz="0 0 0" rpy="0 0 0"/>
            <geometry>
                <box size="0.8333333333333334 0.02 0.5"/>
            </geometry>
        </collision>
    </link>
    <!-- Joint: right_arm, right_arm_sensor_1_right -->
    <joint name="right_arm_right_arm_sensor_1_right_joint" type="fixed">
        <parent link="right_arm"/>
        <child link="right_arm_sensor_1_right"/>
        <origin xyz="1.1102230246251565e-16 -0.25 0"
                rpy="0 0 0"/>
        <axis xyz="1 0 0"/>
        
    </joint>


    <!-- right_arm_sensor_2_stop -->
    <link name="right_arm_sensor_2_stop">
        <inertial>
            <origin xyz="0 0 0" rpy="0 0 0"/>
            <mass value="0"/>
            <inertia ixx=".1" ixy=".1" ixz=".1" iyy=".1" iyz=".1" izz=".1"/>
        </inertial>
        <visual>
            <origin xyz="0 0 0" rpy="0 0 0"/>
            <geometry>
                <box size="0.02 0.5 0.5"/>
            </geometry>
        </visual>
        <collision>
            <origin xyz="0 0 0" rpy="0 0 0"/>
            <geometry>
                <box size="0.02 0.5 0.5"/>
            </geometry>
        </collision>
    </link>
    <!-- Joint: right_arm, right_arm_sensor_2_stop -->
    <joint name="right_arm_right_arm_sensor_2_stop_joint" type="fixed">
        <parent link="right_arm"/>
        <child link="right_arm_sensor_2_stop"/>
        <origin xyz="-1.25 0 0"
                rpy="0 0 0"/>
        <axis xyz="1 0 0"/>
        
    </joint>


    <!-- right_arm_sensor_2_top -->
    <link name="right_arm_sensor_2_top">
        <inertial>
            <origin xyz="0 0 0" rpy="0 0 0"/>
            <mass value="0"/>
            <inertia ixx=".1" ixy=".1" ixz=".1" iyy=".1" iyz=".1" izz=".1"/>
        </inertial>
        <visual>
            <origin xyz="0 0 0" rpy="0 0 0"/>
            <geometry>
                <box size="0.8333333333333334 0.5 0.02"/>
            </geometry>
        </visual>
        <collision>
            <origin xyz="0 0 0" rpy="0 0 0"/>
            <geometry>
                <box size="0.8333333333333334 0.5 0.02"/>
            </geometry>
        </collision>
    </link>
    <!-- Joint: right_arm, right_arm_sensor_2_top -->
    <joint name="right_arm_right_arm_sensor_2_top_joint" type="fixed">
        <parent link="right_arm"/>
        <child link="right_arm_sensor_2_top"/>
        <origin xyz="0.8333333333333335 0 0.25"
                rpy="0 0 0"/>
        <axis xyz="1 0 0"/>
        
    </joint>


    <!-- right_arm_sensor_2_bottom -->
    <link name="right_arm_sensor_2_bottom">
        <inertial>
            <origin xyz="0 0 0" rpy="0 0 0"/>
            <mass value="0"/>
            <inertia ixx=".1" ixy=".1" ixz=".1" iyy=".1" iyz=".1" izz=".1"/>
        </inertial>
        <visual>
            <origin xyz="0 0 0" rpy="0 0 0"/>
            <geometry>
                <box size="0.8333333333333334 0.5 0.02"/>
            </geometry>
        </visual>
        <collision>
            <origin xyz="0 0 0" rpy="0 0 0"/>
            <geometry>
                <box size="0.8333333333333334 0.5 0.02"/>
            </geometry>
        </collision>
    </link>
    <!-- Joint: right_arm, right_arm_sensor_2_bottom -->
    <joint name="right_arm_right_arm_sensor_2_bottom_joint" type="fixed">
        <parent link="right_arm"/>
        <child link="right_arm_sensor_2_bottom"/>
        <origin xyz="0.8333333333333335 0 -0.25"
                rpy="0 0 0"/>
        <axis xyz="1 0 0"/>
        
    </joint>


    <!-- right_arm_sensor_2_left -->
    <link name="right_arm_sensor_2_left">
        <inertial>
            <origin xyz="0 0 0" rpy="0 0 0"/>
            <mass value="0"/>
            <inertia ixx=".1" ixy=".1" ixz=".1" iyy=".1" iyz=".1" izz=".1"/>
        </inertial>
        <visual>
            <origin xyz="0 0 0" rpy="0 0 0"/>
            <geometry>
                <box size="0.8333333333333334 0.02 0.5"/>
            </geometry>
        </visual>
        <collision>
            <origin xyz="0 0 0" rpy="0 0 0"/>
            <geometry>
                <box size="0.8333333333333334 0.02 0.5"/>
            </geometry>
        </collision>
    </link>
    <!-- Joint: right_arm, right_arm_sensor_2_left -->
    <joint name="right_arm_right_arm_sensor_2_left_joint" type="fixed">
        <parent link="right_arm"/>
        <child link="right_arm_sensor_2_left"/>
        <origin xyz="0.8333333333333335 0.25 0"
                rpy="0 0 0"/>
        <axis xyz="1 0 0"/>
        
    </joint>


    <!-- right_arm_sensor_2_right -->
    <link name="right_arm_sensor_2_right">
        <inertial>
            <origin xyz="0 0 0" rpy="0 0 0"/>
            <mass value="0"/>
            <inertia ixx=".1" ixy=".1" ixz=".1" iyy=".1" iyz=".1" izz=".1"/>
        </inertial>
        <visual>
            <origin xyz="0 0 0" rpy="0 0 0"/>
            <geometry>
                <box size="0.8333333333333334 0.02 0.5"/>
            </geometry>
        </visual>
        <collision>
            <origin xyz="0 0 0" rpy="0 0 0"/>
            <geometry>
                <box size="0.8333333333333334 0.02 0.5"/>
            </geometry>
        </collision>
    </link>
    <!-- Joint: right_arm, right_arm_sensor_2_right -->
    <joint name="right_arm_right_arm_sensor_2_right_joint" type="fixed">
        <parent link="right_arm"/>
        <child link="right_arm_sensor_2_right"/>
        <origin xyz="0.8333333333333335 -0.25 0"
                rpy="0 0 0"/>
        <axis xyz="1 0 0"/>
        
    </joint>
    <!-- Joint: joint_4, right_arm -->
    <joint name="joint_4_right_arm_joint" type="fixed">
        <parent link="joint_4"/>
        <child link="right_arm"/>
        <origin xyz="1.5 0 0"
                rpy="0 0 0"/>
        <axis xyz="1 0 0"/>
        
    </joint>


    <!-- right_hand -->
    <link name="right_hand">
        <inertial>
            <origin xyz="0 0 0" rpy="0 0 0"/>
            <mass value="0.1"/>
            <inertia ixx=".1" ixy=".1" ixz=".1" iyy=".1" iyz=".1" izz=".1"/>
        </inertial>
        <visual>
            <origin xyz="0 0 0" rpy="0 0 0"/>
            <geometry>
                <box size="0.5 0.65 0.5"/>
            </geometry>
        </visual>
        <collision>
            <origin xyz="0 0 0" rpy="0 0 0"/>
            <geometry>
                <box size="0.5 0.65 0.5"/>
            </geometry>
        </collision>
    </link>


    <!-- right_hand_sensor_0_start -->
    <link name="right_hand_sensor_0_start">
        <inertial>
            <origin xyz="0 0 0" rpy="0 0 0"/>
            <mass value="0"/>
            <inertia ixx=".1" ixy=".1" ixz=".1" iyy=".1" iyz=".1" izz=".1"/>
        </inertial>
        <visual>
            <origin xyz="0 0 0" rpy="0 0 0"/>
            <geometry>
                <box size="0.5 0.02 0.5"/>
            </geometry>
        </visual>
        <collision>
            <origin xyz="0 0 0" rpy="0 0 0"/>
            <geometry>
                <box size="0.5 0.02 0.5"/>
            </geometry>
        </collision>
    </link>
    <!-- Joint: right_hand, right_hand_sensor_0_start -->
    <joint name="right_hand_right_hand_sensor_0_start_joint" type="fixed">
        <parent link="right_hand"/>
        <child link="right_hand_sensor_0_start"/>
        <origin xyz="0 0.325 0"
                rpy="0 0 0"/>
        <axis xyz="0 0 1"/>
        
    </joint>


    <!-- right_hand_sensor_0_top -->
    <link name="right_hand_sensor_0_top">
        <inertial>
            <origin xyz="0 0 0" rpy="0 0 0"/>
            <mass value="0"/>
            <inertia ixx=".1" ixy=".1" ixz=".1" iyy=".1" iyz=".1" izz=".1"/>
        </inertial>
        <visual>
            <origin xyz="0 0 0" rpy="0 0 0"/>
            <geometry>
                <box size="0.02 0.65 0.5"/>
            </geometry>
        </visual>
        <collision>
            <origin xyz="0 0 0" rpy="0 0 0"/>
            <geometry>
                <box size="0.02 0.65 0.5"/>
            </geometry>
        </collision>
    </link>
    <!-- Joint: right_hand, right_hand_sensor_0_top -->
    <joint name="right_hand_right_hand_sensor_0_top_joint" type="fixed">
        <parent link="right_hand"/>
        <child link="right_hand_sensor_0_top"/>
        <origin xyz="0.25 0 0"
                rpy="0 0 0"/>
        <axis xyz="0 0 1"/>
        
    </joint>


    <!-- right_hand_sensor_0_bottom -->
    <link name="right_hand_sensor_0_bottom">
        <inertial>
            <origin xyz="0 0 0" rpy="0 0 0"/>
            <mass value="0"/>
            <inertia ixx=".1" ixy=".1" ixz=".1" iyy=".1" iyz=".1" izz=".1"/>
        </inertial>
        <visual>
            <origin xyz="0 0 0" rpy="0 0 0"/>
            <geometry>
                <box size="0.02 0.65 0.5"/>
            </geometry>
        </visual>
        <collision>
            <origin xyz="0 0 0" rpy="0 0 0"/>
            <geometry>
                <box size="0.02 0.65 0.5"/>
            </geometry>
        </collision>
    </link>
    <!-- Joint: right_hand, right_hand_sensor_0_bottom -->
    <joint name="right_hand_right_hand_sensor_0_bottom_joint" type="fixed">
        <parent link="right_hand"/>
        <child link="right_hand_sensor_0_bottom"/>
        <origin xyz="-0.25 0 0"
                rpy="0 0 0"/>
        <axis xyz="0 0 1"/>
        
    </joint>


    <!-- right_hand_sensor_0_left -->
    <link name="right_hand_sensor_0_left">
        <inertial>
            <origin xyz="0 0 0" rpy="0 0 0"/>
            <mass value="0"/>
            <inertia ixx=".1" ixy=".1" ixz=".1" iyy=".1" iyz=".1" izz=".1"/>
        </inertial>
        <visual>
            <origin xyz="0 0 0" rpy="0 0 0"/>
            <geometry>
                <box size="0.5 0.65 0.02"/>
            </geometry>
        </visual>
        <collision>
            <origin xyz="0 0 0" rpy="0 0 0"/>
            <geometry>
                <box size="0.5 0.65 0.02"/>
            </geometry>
        </collision>
    </link>
    <!-- Joint: right_hand, right_hand_sensor_0_left -->
    <joint name="right_hand_right_hand_sensor_0_left_joint" type="fixed">
        <parent link="right_hand"/>
        <child link="right_hand_sensor_0_left"/>
        <origin xyz="0 0 0.25"
                rpy="0 0 0"/>
        <axis xyz="0 0 1"/>
        
    </joint>


    <!-- right_hand_sensor_0_right -->
    <link name="right_hand_sensor_0_right">
        <inertial>
            <origin xyz="0 0 0" rpy="0 0 0"/>
            <mass value="0"/>
            <inertia ixx=".1" ixy=".1" ixz=".1" iyy=".1" iyz=".1" izz=".1"/>
        </inertial>
        <visual>
            <origin xyz="0 0 0" rpy="0 0 0"/>
            <geometry>
                <box size="0.5 0.65 0.02"/>
            </geometry>
        </visual>
        <collision>
            <origin xyz="0 0 0" rpy="0 0 0"/>
            <geometry>
                <box size="0.5 0.65 0.02"/>
            </geometry>
        </collision>
    </link>
    <!-- Joint: right_hand, right_hand_sensor_0_right -->
    <joint name="right_hand_right_hand_sensor_0_right_joint" type="fixed">
        <parent link="right_hand"/>
        <child link="right_hand_sensor_0_right"/>
        <origin xyz="0 0 -0.25"
                rpy="0 0 0"/>
        <axis xyz="0 0 1"/>
        
    </joint>
    <!-- Joint: right_arm, right_hand -->
    <joint name="right_arm_right_hand_joint" type="fixed">
        <parent link="right_arm"/>
        <child link="right_hand"/>
        <origin xyz="1.0 0.575 0"
                rpy="0 0 0"/>
        <axis xyz="0 0 1"/>
        
    </joint>


    <!-- body_face_front_0 -->
    <link name="body_face_front_0">
        <inertial>
            <origin xyz="0 0 0" rpy="0 0 0"/>
            <mass value="0"/>
            <inertia ixx=".1" ixy=".1" ixz=".1" iyy=".1" iyz=".1" izz=".1"/>
        </inertial>
        <visual>
            <origin xyz="0 0 0" rpy="0 0 0"/>
            <geometry>
                <box size="0.002 0.1111111111111111 0.1111111111111111"/>
            </geometry>
        </visual>
        <collision>
            <origin xyz="0 0 0" rpy="0 0 0"/>
            <geometry>
                <box size="0.002 0.1111111111111111 0.1111111111111111"/>
            </geometry>
        </collision>
    </link>
    <!-- Joint: body, body_face_front_0 -->
    <joint name="body_body_face_front_0_joint" type="fixed">
        <parent link="body"/>
        <child link="body_face_front_0"/>
        <origin xyz="0.501 -0.33333333333333337 0.11111111111111116"
                rpy="0 0 0"/>
        <axis xyz="0 0 1"/>
        
    </joint>


    <!-- body_face_front_1 -->
    <link name="body_face_front_1">
        <inertial>
            <origin xyz="0 0 0" rpy="0 0 0"/>
            <mass value="0"/>
            <inertia ixx=".1" ixy=".1" ixz=".1" iyy=".1" iyz=".1" izz=".1"/>
        </inertial>
        <visual>
            <origin xyz="0 0 0" rpy="0 0 0"/>
            <geometry>
                <box size="0.002 0.1111111111111111 0.1111111111111111"/>
            </geometry>
        </visual>
        <collision>
            <origin xyz="0 0 0" rpy="0 0 0"/>
            <geometry>
                <box size="0.002 0.1111111111111111 0.1111111111111111"/>
            </geometry>
        </collision>
    </link>
    <!-- Joint: body, body_face_front_1 -->
    <joint name="body_body_face_front_1_joint" type="fixed">
        <parent link="body"/>
        <child link="body_face_front_1"/>
        <origin xyz="0.501 -0.2222222222222222 0.2222222222222222"
                rpy="0 0 0"/>
        <axis xyz="0 0 1"/>
        
    </joint>


    <!-- body_face_front_2 -->
    <link name="body_face_front_2">
        <inertial>
            <origin xyz="0 0 0" rpy="0 0 0"/>
            <mass value="0"/>
            <inertia ixx=".1" ixy=".1" ixz=".1" iyy=".1" iyz=".1" izz=".1"/>
        </inertial>
        <visual>
            <origin xyz="0 0 0" rpy="0 0 0"/>
            <geometry>
                <box size="0.002 0.1111111111111111 0.1111111111111111"/>
            </geometry>
        </visual>
        <collision>
            <origin xyz="0 0 0" rpy="0 0 0"/>
            <geometry>
                <box size="0.002 0.1111111111111111 0.1111111111111111"/>
            </geometry>
        </collision>
    </link>
    <!-- Joint: body, body_face_front_2 -->
    <joint name="body_body_face_front_2_joint" type="fixed">
        <parent link="body"/>
        <child link="body_face_front_2"/>
        <origin xyz="0.501 -0.1111111111111111 0.11111111111111116"
                rpy="0 0 0"/>
        <axis xyz="0 0 1"/>
        
    </joint>


    <!-- body_face_front_3 -->
    <link name="body_face_front_3">
        <inertial>
            <origin xyz="0 0 0" rpy="0 0 0"/>
            <mass value="0"/>
            <inertia ixx=".1" ixy=".1" ixz=".1" iyy=".1" iyz=".1" izz=".1"/>
        </inertial>
        <visual>
            <origin xyz="0 0 0" rpy="0 0 0"/>
            <geometry>
                <box size="0.002 0.1111111111111111 0.1111111111111111"/>
            </geometry>
        </visual>
        <collision>
            <origin xyz="0 0 0" rpy="0 0 0"/>
            <geometry>
                <box size="0.002 0.1111111111111111 0.1111111111111111"/>
            </geometry>
        </collision>
    </link>
    <!-- Joint: body, body_face_front_3 -->
    <joint name="body_body_face_front_3_joint" type="fixed">
        <parent link="body"/>
        <child link="body_face_front_3"/>
        <origin xyz="0.501 -0.1111111111111111 -0.2222222222222222"
                rpy="0 0 0"/>
        <axis xyz="0 0 1"/>
        
    </joint>


    <!-- body_face_front_4 -->
    <link name="body_face_front_4">
        <inertial>
            <origin xyz="0 0 0" rpy="0 0 0"/>
            <mass value="0"/>
            <inertia ixx=".1" ixy=".1" ixz=".1" iyy=".1" iyz=".1" izz=".1"/>
        </inertial>
        <visual>
            <origin xyz="0 0 0" rpy="0 0 0"/>
            <geometry>
                <box size="0.002 0.1111111111111111 0.1111111111111111"/>
            </geometry>
        </visual>
        <collision>
            <origin xyz="0 0 0" rpy="0 0 0"/>
            <geometry>
                <box size="0.002 0.1111111111111111 0.1111111111111111"/>
            </geometry>
        </collision>
    </link>
    <!-- Joint: body, body_face_front_4 -->
    <joint name="body_body_face_front_4_joint" type="fixed">
        <parent link="body"/>
        <child link="body_face_front_4"/>
        <origin xyz="0.501 0.0 -0.2222222222222222"
                rpy="0 0 0"/>
        <axis xyz="0 0 1"/>
        
    </joint>


    <!-- body_face_front_5 -->
    <link name="body_face_front_5">
        <inertial>
            <origin xyz="0 0 0" rpy="0 0 0"/>
            <mass value="0"/>
            <inertia ixx=".1" ixy=".1" ixz=".1" iyy=".1" iyz=".1" izz=".1"/>
        </inertial>
        <visual>
            <origin xyz="0 0 0" rpy="0 0 0"/>
            <geometry>
                <box size="0.002 0.1111111111111111 0.1111111111111111"/>
            </geometry>
        </visual>
        <collision>
            <origin xyz="0 0 0" rpy="0 0 0"/>
            <geometry>
                <box size="0.002 0.1111111111111111 0.1111111111111111"/>
            </geometry>
        </collision>
    </link>
    <!-- Joint: body, body_face_front_5 -->
    <joint name="body_body_face_front_5_joint" type="fixed">
        <parent link="body"/>
        <child link="body_face_front_5"/>
        <origin xyz="0.501 0.11111111111111116 0.11111111111111116"
                rpy="0 0 0"/>
        <axis xyz="0 0 1"/>
        
    </joint>


    <!-- body_face_front_6 -->
    <link name="body_face_front_6">
        <inertial>
            <origin xyz="0 0 0" rpy="0 0 0"/>
            <mass value="0"/>
            <inertia ixx=".1" ixy=".1" ixz=".1" iyy=".1" iyz=".1" izz=".1"/>
        </inertial>
        <visual>
            <origin xyz="0 0 0" rpy="0 0 0"/>
            <geometry>
                <box size="0.002 0.1111111111111111 0.1111111111111111"/>
            </geometry>
        </visual>
        <collision>
            <origin xyz="0 0 0" rpy="0 0 0"/>
            <geometry>
                <box size="0.002 0.1111111111111111 0.1111111111111111"/>
            </geometry>
        </collision>
    </link>
    <!-- Joint: body, body_face_front_6 -->
    <joint name="body_body_face_front_6_joint" type="fixed">
        <parent link="body"/>
        <child link="body_face_front_6"/>
        <origin xyz="0.501 0.11111111111111116 -0.2222222222222222"
                rpy="0 0 0"/>
        <axis xyz="0 0 1"/>
        
    </joint>


    <!-- body_face_front_7 -->
    <link name="body_face_front_7">
        <inertial>
            <origin xyz="0 0 0" rpy="0 0 0"/>
            <mass value="0"/>
            <inertia ixx=".1" ixy=".1" ixz=".1" iyy=".1" iyz=".1" izz=".1"/>
        </inertial>
        <visual>
            <origin xyz="0 0 0" rpy="0 0 0"/>
            <geometry>
                <box size="0.002 0.1111111111111111 0.1111111111111111"/>
            </geometry>
        </visual>
        <collision>
            <origin xyz="0 0 0" rpy="0 0 0"/>
            <geometry>
                <box size="0.002 0.1111111111111111 0.1111111111111111"/>
            </geometry>
        </collision>
    </link>
    <!-- Joint: body, body_face_front_7 -->
    <joint name="body_body_face_front_7_joint" type="fixed">
        <parent link="body"/>
        <child link="body_face_front_7"/>
        <origin xyz="0.501 0.2222222222222222 0.2222222222222222"
                rpy="0 0 0"/>
        <axis xyz="0 0 1"/>
        
    </joint>


    <!-- body_face_front_8 -->
    <link name="body_face_front_8">
        <inertial>
            <origin xyz="0 0 0" rpy="0 0 0"/>
            <mass value="0"/>
            <inertia ixx=".1" ixy=".1" ixz=".1" iyy=".1" iyz=".1" izz=".1"/>
        </inertial>
        <visual>
            <origin xyz="0 0 0" rpy="0 0 0"/>
            <geometry>
                <box size="0.002 0.1111111111111111 0.1111111111111111"/>
            </geometry>
        </visual>
        <collision>
            <origin xyz="0 0 0" rpy="0 0 0"/>
            <geometry>
                <box size="0.002 0.1111111111111111 0.1111111111111111"/>
            </geometry>
        </collision>
    </link>
    <!-- Joint: body, body_face_front_8 -->
    <joint name="body_body_face_front_8_joint" type="fixed">
        <parent link="body"/>
        <child link="body_face_front_8"/>
        <origin xyz="0.501 0.33333333333333337 0.11111111111111116"
                rpy="0 0 0"/>
        <axis xyz="0 0 1"/>
        
    </joint>


    <!-- body_face_top_0 -->
    <link name="body_face_top_0">
        <inertial>
            <origin xyz="0 0 0" rpy="0 0 0"/>
            <mass value="0"/>
            <inertia ixx=".1" ixy=".1" ixz=".1" iyy=".1" iyz=".1" izz=".1"/>
        </inertial>
        <visual>
            <origin xyz="0 0 0" rpy="0 0 0"/>
            <geometry>
                <box size="0.1111111111111111 0.1111111111111111 0.002"/>
            </geometry>
        </visual>
        <collision>
            <origin xyz="0 0 0" rpy="0 0 0"/>
            <geometry>
                <box size="0.1111111111111111 0.1111111111111111 0.002"/>
            </geometry>
        </collision>
    </link>
    <!-- Joint: body, body_face_top_0 -->
    <joint name="body_body_face_top_0_joint" type="fixed">
        <parent link="body"/>
        <child link="body_face_top_0"/>
        <origin xyz="0.11111111111111116 -0.2222222222222222 0.501"
                rpy="0 0 0"/>
        <axis xyz="0 0 1"/>
        
    </joint>


    <!-- body_face_top_1 -->
    <link name="body_face_top_1">
        <inertial>
            <origin xyz="0 0 0" rpy="0 0 0"/>
            <mass value="0"/>
            <inertia ixx=".1" ixy=".1" ixz=".1" iyy=".1" iyz=".1" izz=".1"/>
        </inertial>
        <visual>
            <origin xyz="0 0 0" rpy="0 0 0"/>
            <geometry>
                <box size="0.1111111111111111 0.1111111111111111 0.002"/>
            </geometry>
        </visual>
        <collision>
            <origin xyz="0 0 0" rpy="0 0 0"/>
            <geometry>
                <box size="0.1111111111111111 0.1111111111111111 0.002"/>
            </geometry>
        </collision>
    </link>
    <!-- Joint: body, body_face_top_1 -->
    <joint name="body_body_face_top_1_joint" type="fixed">
        <parent link="body"/>
        <child link="body_face_top_1"/>
        <origin xyz="0.11111111111111116 -0.1111111111111111 0.501"
                rpy="0 0 0"/>
        <axis xyz="0 0 1"/>
        
    </joint>


    <!-- body_face_top_2 -->
    <link name="body_face_top_2">
        <inertial>
            <origin xyz="0 0 0" rpy="0 0 0"/>
            <mass value="0"/>
            <inertia ixx=".1" ixy=".1" ixz=".1" iyy=".1" iyz=".1" izz=".1"/>
        </inertial>
        <visual>
            <origin xyz="0 0 0" rpy="0 0 0"/>
            <geometry>
                <box size="0.1111111111111111 0.1111111111111111 0.002"/>
            </geometry>
        </visual>
        <collision>
            <origin xyz="0 0 0" rpy="0 0 0"/>
            <geometry>
                <box size="0.1111111111111111 0.1111111111111111 0.002"/>
            </geometry>
        </collision>
    </link>
    <!-- Joint: body, body_face_top_2 -->
    <joint name="body_body_face_top_2_joint" type="fixed">
        <parent link="body"/>
        <child link="body_face_top_2"/>
        <origin xyz="0.2222222222222222 -0.1111111111111111 0.501"
                rpy="0 0 0"/>
        <axis xyz="0 0 1"/>
        
    </joint>


    <!-- body_face_top_3 -->
    <link name="body_face_top_3">
        <inertial>
            <origin xyz="0 0 0" rpy="0 0 0"/>
            <mass value="0"/>
            <inertia ixx=".1" ixy=".1" ixz=".1" iyy=".1" iyz=".1" izz=".1"/>
        </inertial>
        <visual>
            <origin xyz="0 0 0" rpy="0 0 0"/>
            <geometry>
                <box size="0.1111111111111111 0.1111111111111111 0.002"/>
            </geometry>
        </visual>
        <collision>
            <origin xyz="0 0 0" rpy="0 0 0"/>
            <geometry>
                <box size="0.1111111111111111 0.1111111111111111 0.002"/>
            </geometry>
        </collision>
    </link>
    <!-- Joint: body, body_face_top_3 -->
    <joint name="body_body_face_top_3_joint" type="fixed">
        <parent link="body"/>
        <child link="body_face_top_3"/>
        <origin xyz="-0.33333333333333337 0.0 0.501"
                rpy="0 0 0"/>
        <axis xyz="0 0 1"/>
        
    </joint>


    <!-- body_face_top_4 -->
    <link name="body_face_top_4">
        <inertial>
            <origin xyz="0 0 0" rpy="0 0 0"/>
            <mass value="0"/>
            <inertia ixx=".1" ixy=".1" ixz=".1" iyy=".1" iyz=".1" izz=".1"/>
        </inertial>
        <visual>
            <origin xyz="0 0 0" rpy="0 0 0"/>
            <geometry>
                <box size="0.1111111111111111 0.1111111111111111 0.002"/>
            </geometry>
        </visual>
        <collision>
            <origin xyz="0 0 0" rpy="0 0 0"/>
            <geometry>
                <box size="0.1111111111111111 0.1111111111111111 0.002"/>
            </geometry>
        </collision>
    </link>
    <!-- Joint: body, body_face_top_4 -->
    <joint name="body_body_face_top_4_joint" type="fixed">
        <parent link="body"/>
        <child link="body_face_top_4"/>
        <origin xyz="-0.2222222222222222 0.0 0.501"
                rpy="0 0 0"/>
        <axis xyz="0 0 1"/>
        
    </joint>


    <!-- body_face_top_5 -->
    <link name="body_face_top_5">
        <inertial>
            <origin xyz="0 0 0" rpy="0 0 0"/>
            <mass value="0"/>
            <inertia ixx=".1" ixy=".1" ixz=".1" iyy=".1" iyz=".1" izz=".1"/>
        </inertial>
        <visual>
            <origin xyz="0 0 0" rpy="0 0 0"/>
            <geometry>
                <box size="0.1111111111111111 0.1111111111111111 0.002"/>
            </geometry>
        </visual>
        <collision>
            <origin xyz="0 0 0" rpy="0 0 0"/>
            <geometry>
                <box size="0.1111111111111111 0.1111111111111111 0.002"/>
            </geometry>
        </collision>
    </link>
    <!-- Joint: body, body_face_top_5 -->
    <joint name="body_body_face_top_5_joint" type="fixed">
        <parent link="body"/>
        <child link="body_face_top_5"/>
        <origin xyz="-0.1111111111111111 0.0 0.501"
                rpy="0 0 0"/>
        <axis xyz="0 0 1"/>
        
    </joint>


    <!-- body_face_top_6 -->
    <link name="body_face_top_6">
        <inertial>
            <origin xyz="0 0 0" rpy="0 0 0"/>
            <mass value="0"/>
            <inertia ixx=".1" ixy=".1" ixz=".1" iyy=".1" iyz=".1" izz=".1"/>
        </inertial>
        <visual>
            <origin xyz="0 0 0" rpy="0 0 0"/>
            <geometry>
                <box size="0.1111111111111111 0.1111111111111111 0.002"/>
            </geometry>
        </visual>
        <collision>
            <origin xyz="0 0 0" rpy="0 0 0"/>
            <geometry>
                <box size="0.1111111111111111 0.1111111111111111 0.002"/>
            </geometry>
        </collision>
    </link>
    <!-- Joint: body, body_face_top_6 -->
    <joint name="body_body_face_top_6_joint" type="fixed">
        <parent link="body"/>
        <child link="body_face_top_6"/>
        <origin xyz="0.0 0.0 0.501"
                rpy="0 0 0"/>
        <axis xyz="0 0 1"/>
        
    </joint>


    <!-- body_face_top_7 -->
    <link name="body_face_top_7">
        <inertial>
            <origin xyz="0 0 0" rpy="0 0 0"/>
            <mass value="0"/>
            <inertia ixx=".1" ixy=".1" ixz=".1" iyy=".1" iyz=".1" izz=".1"/>
        </inertial>
        <visual>
            <origin xyz="0 0 0" rpy="0 0 0"/>
            <geometry>
                <box size="0.1111111111111111 0.1111111111111111 0.002"/>
            </geometry>
        </visual>
        <collision>
            <origin xyz="0 0 0" rpy="0 0 0"/>
            <geometry>
                <box size="0.1111111111111111 0.1111111111111111 0.002"/>
            </geometry>
        </collision>
    </link>
    <!-- Joint: body, body_face_top_7 -->
    <joint name="body_body_face_top_7_joint" type="fixed">
        <parent link="body"/>
        <child link="body_face_top_7"/>
        <origin xyz="0.11111111111111116 0.0 0.501"
                rpy="0 0 0"/>
        <axis xyz="0 0 1"/>
        
    </joint>


    <!-- body_face_top_8 -->
    <link name="body_face_top_8">
        <inertial>
            <origin xyz="0 0 0" rpy="0 0 0"/>
            <mass value="0"/>
            <inertia ixx=".1" ixy=".1" ixz=".1" iyy=".1" iyz=".1" izz=".1"/>
        </inertial>
        <visual>
            <origin xyz="0 0 0" rpy="0 0 0"/>
            <geometry>
                <box size="0.1111111111111111 0.1111111111111111 0.002"/>
            </geometry>
        </visual>
        <collision>
            <origin xyz="0 0 0" rpy="0 0 0"/>
            <geometry>
                <box size="0.1111111111111111 0.1111111111111111 0.002"/>
            </geometry>
        </collision>
    </link>
    <!-- Joint: body, body_face_top_8 -->
    <joint name="body_body_face_top_8_joint" type="fixed">
        <parent link="body"/>
        <child link="body_face_top_8"/>
        <origin xyz="0.2222222222222222 0.0 0.501"
                rpy="0 0 0"/>
        <axis xyz="0 0 1"/>
        
    </joint>


    <!-- body_face_top_9 -->
    <link name="body_face_top_9">
        <inertial>
            <origin xyz="0 0 0" rpy="0 0 0"/>
            <mass value="0"/>
            <inertia ixx=".1" ixy=".1" ixz=".1" iyy=".1" iyz=".1" izz=".1"/>
        </inertial>
        <visual>
            <origin xyz="0 0 0" rpy="0 0 0"/>
            <geometry>
                <box size="0.1111111111111111 0.1111111111111111 0.002"/>
            </geometry>
        </visual>
        <collision>
            <origin xyz="0 0 0" rpy="0 0 0"/>
            <geometry>
                <box size="0.1111111111111111 0.1111111111111111 0.002"/>
            </geometry>
        </collision>
    </link>
    <!-- Joint: body, body_face_top_9 -->
    <joint name="body_body_face_top_9_joint" type="fixed">
        <parent link="body"/>
        <child link="body_face_top_9"/>
        <origin xyz="0.33333333333333337 0.0 0.501"
                rpy="0 0 0"/>
        <axis xyz="0 0 1"/>
        
    </joint>


    <!-- body_face_top_10 -->
    <link name="body_face_top_10">
        <inertial>
            <origin xyz="0 0 0" rpy="0 0 0"/>
            <mass value="0"/>
            <inertia ixx=".1" ixy=".1" ixz=".1" iyy=".1" iyz=".1" izz=".1"/>
        </inertial>
        <visual>
            <origin xyz="0 0 0" rpy="0 0 0"/>
            <geometry>
                <box size="0.1111111111111111 0.1111111111111111 0.002"/>
            </geometry>
        </visual>
        <collision>
            <origin xyz="0 0 0" rpy="0 0 0"/>
            <geometry>
                <box size="0.1111111111111111 0.1111111111111111 0.002"/>
            </geometry>
        </collision>
    </link>
    <!-- Joint: body, body_face_top_10 -->
    <joint name="body_body_face_top_10_joint" type="fixed">
        <parent link="body"/>
        <child link="body_face_top_10"/>
        <origin xyz="0.11111111111111116 0.11111111111111116 0.501"
                rpy="0 0 0"/>
        <axis xyz="0 0 1"/>
        
    </joint>


    <!-- body_face_top_11 -->
    <link name="body_face_top_11">
        <inertial>
            <origin xyz="0 0 0" rpy="0 0 0"/>
            <mass value="0"/>
            <inertia ixx=".1" ixy=".1" ixz=".1" iyy=".1" iyz=".1" izz=".1"/>
        </inertial>
        <visual>
            <origin xyz="0 0 0" rpy="0 0 0"/>
            <geometry>
                <box size="0.1111111111111111 0.1111111111111111 0.002"/>
            </geometry>
        </visual>
        <collision>
            <origin xyz="0 0 0" rpy="0 0 0"/>
            <geometry>
                <box size="0.1111111111111111 0.1111111111111111 0.002"/>
            </geometry>
        </collision>
    </link>
    <!-- Joint: body, body_face_top_11 -->
    <joint name="body_body_face_top_11_joint" type="fixed">
        <parent link="body"/>
        <child link="body_face_top_11"/>
        <origin xyz="0.2222222222222222 0.11111111111111116 0.501"
                rpy="0 0 0"/>
        <axis xyz="0 0 1"/>
        
    </joint>


    <!-- body_face_top_12 -->
    <link name="body_face_top_12">
        <inertial>
            <origin xyz="0 0 0" rpy="0 0 0"/>
            <mass value="0"/>
            <inertia ixx=".1" ixy=".1" ixz=".1" iyy=".1" iyz=".1" izz=".1"/>
        </inertial>
        <visual>
            <origin xyz="0 0 0" rpy="0 0 0"/>
            <geometry>
                <box size="0.1111111111111111 0.1111111111111111 0.002"/>
            </geometry>
        </visual>
        <collision>
            <origin xyz="0 0 0" rpy="0 0 0"/>
            <geometry>
                <box size="0.1111111111111111 0.1111111111111111 0.002"/>
            </geometry>
        </collision>
    </link>
    <!-- Joint: body, body_face_top_12 -->
    <joint name="body_body_face_top_12_joint" type="fixed">
        <parent link="body"/>
        <child link="body_face_top_12"/>
        <origin xyz="0.11111111111111116 0.2222222222222222 0.501"
                rpy="0 0 0"/>
        <axis xyz="0 0 1"/>
        
    </joint>


</robot>
